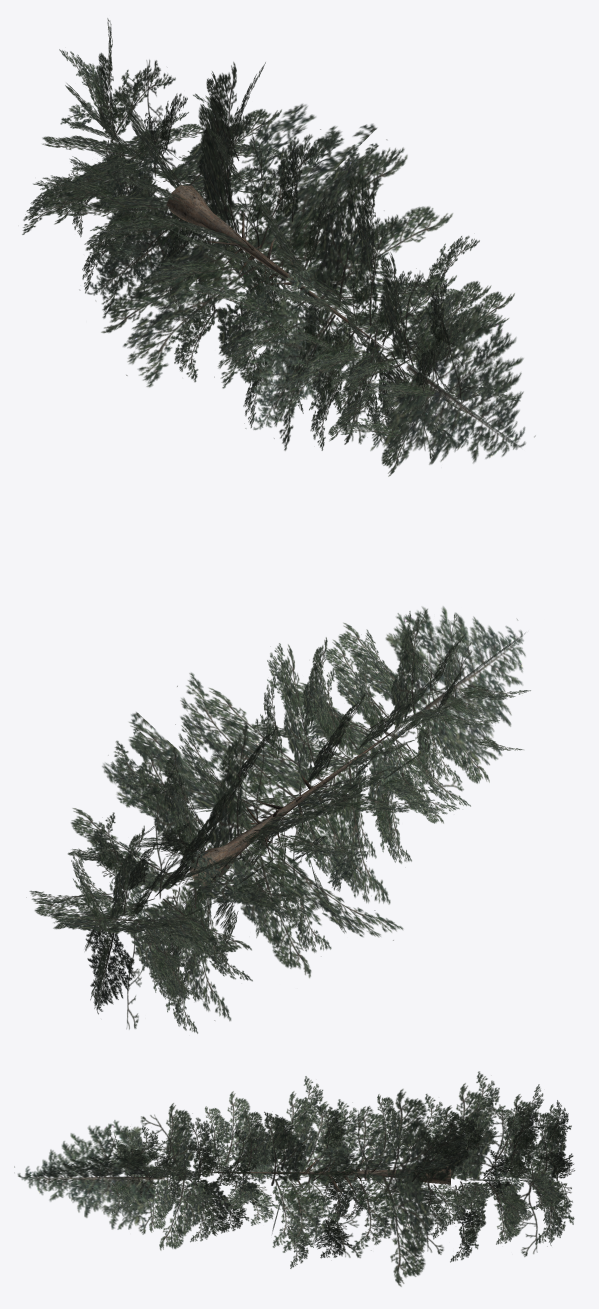
File: tree-pine.glb
3 views of the same model, one above another, from view 1: azimuth 30°, elevation 25°; view 2: azimuth 150°, elevation 25°; view 3: azimuth 270°, elevation 25° (orthographic). The views are drawn at different scales.
Parts seen in each view (by area): view 1: Tree_Branches_01_Tree_Branches_01_0, Tree_Trunk_01_Tree_Trunk_01_0; view 2: Tree_Branches_01_Tree_Branches_01_0, Tree_Trunk_01_Tree_Trunk_01_0; view 3: Tree_Branches_01_Tree_Branches_01_0, Tree_Trunk_01_Tree_Trunk_01_0.
Boxes of the visible parts, x1,y1,x2,y2 form: Tree_Branches_01_Tree_Branches_01_0: (22, 18, 535, 476); Tree_Trunk_01_Tree_Trunk_01_0: (166, 185, 383, 347); Tree_Branches_01_Tree_Branches_01_0: (29, 606, 530, 1033); Tree_Trunk_01_Tree_Trunk_01_0: (190, 726, 400, 885); Tree_Branches_01_Tree_Branches_01_0: (14, 1071, 574, 1286); Tree_Trunk_01_Tree_Trunk_01_0: (201, 1158, 450, 1194).
Size of the model in its own units: 7.81 by 7.49 by 20.45.
Materials: 2 (2 with a texture image).
